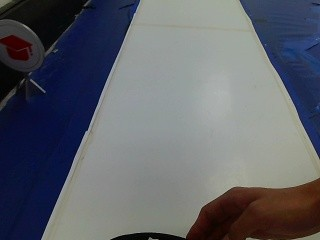school: (0, 20, 44, 75)
